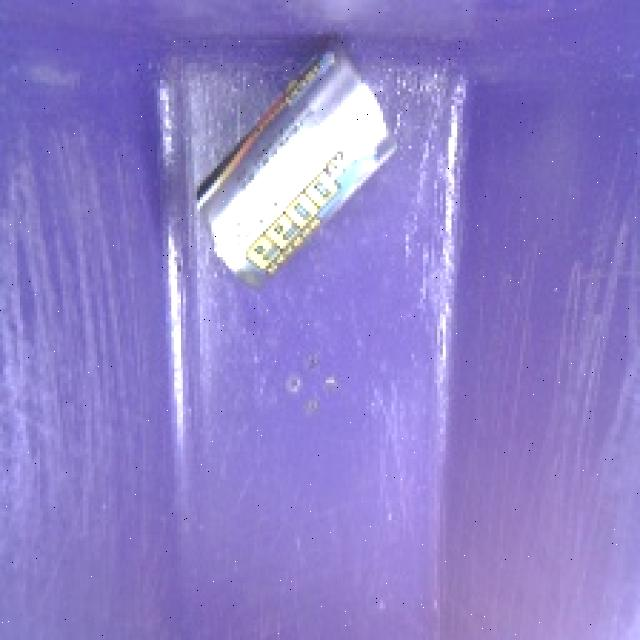battery: (182, 42, 409, 288)
